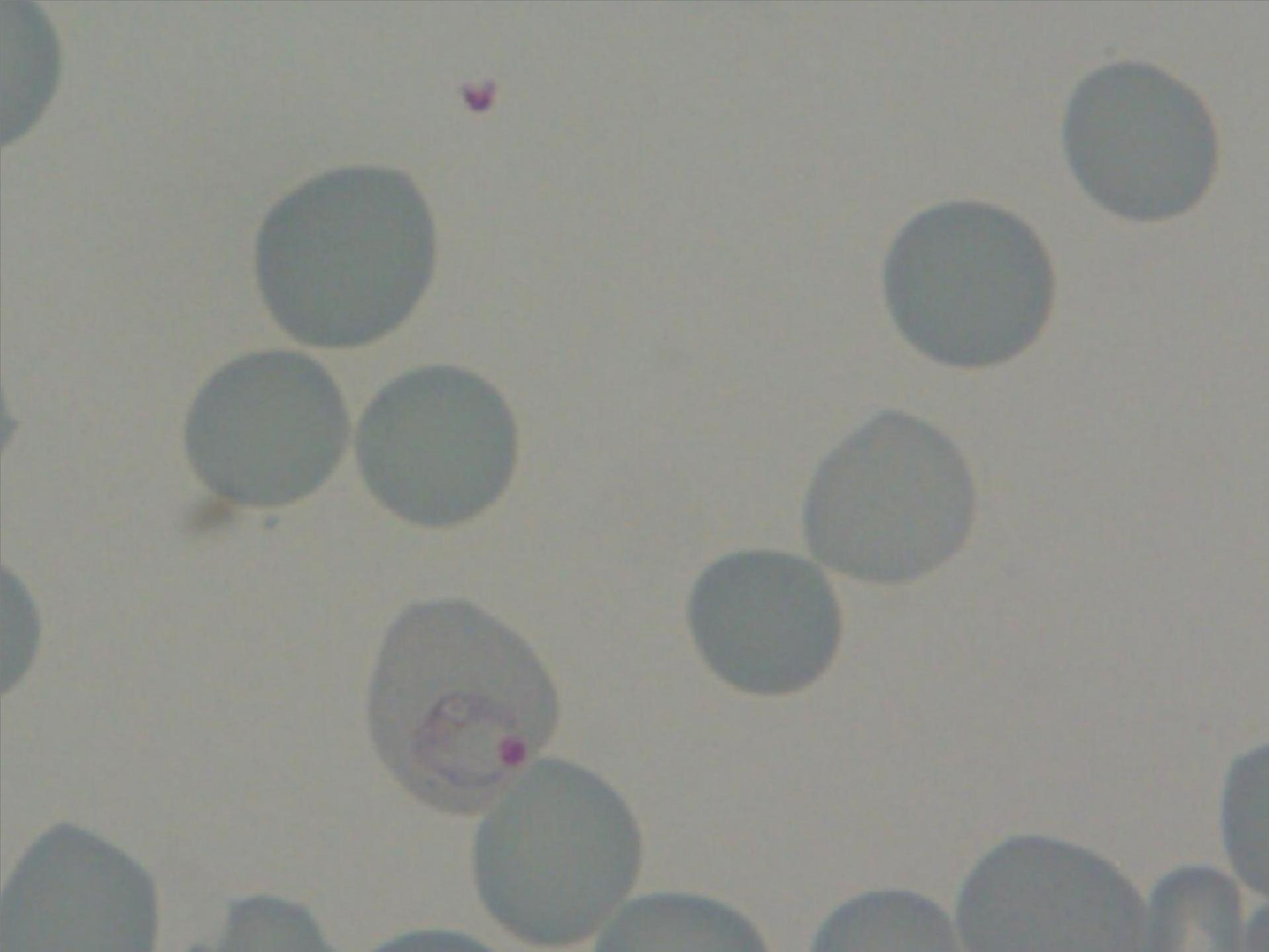Infected: (375, 606, 557, 815)
Uninfected: (258, 166, 436, 347), (480, 758, 646, 945), (806, 413, 978, 580), (886, 203, 1056, 366), (355, 366, 521, 529), (187, 355, 352, 508), (1066, 62, 1219, 219), (696, 551, 846, 696)
